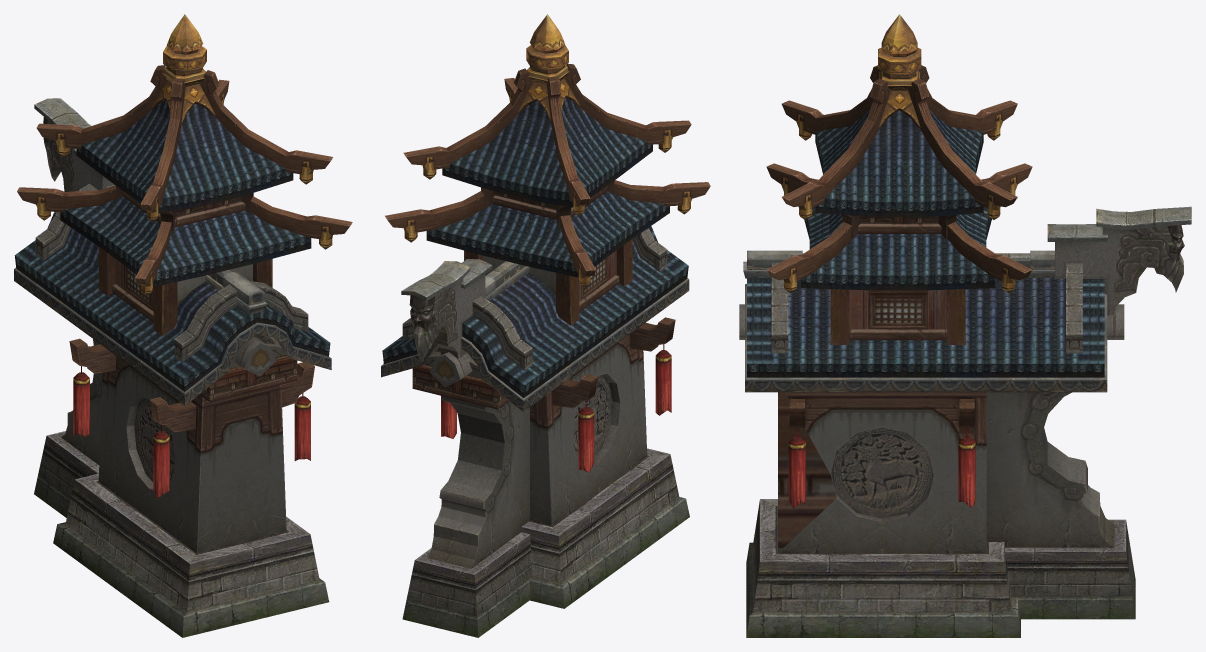
File: jz_yuanmen01_53_32_6624out.fbx
3 views of the same model, side by side, from view 1: azimuth 30°, elevation 25°; view 2: azimuth 150°, elevation 25°; view 3: azimuth 270°, elevation 25° (orthographic). The views are drawn at different scales.
Visible parts, largest first — view 1: 0000_jz_yuanmen01, 0001_jz_yuanmen01; view 2: 0000_jz_yuanmen01, 0001_jz_yuanmen01; view 3: 0000_jz_yuanmen01, 0001_jz_yuanmen01.
Part boxes in pixels (left/top/right/bottom): 0000_jz_yuanmen01: left=17, top=14, right=352, bottom=637; 0001_jz_yuanmen01: left=14, top=98, right=331, bottom=405; 0000_jz_yuanmen01: left=385, top=14, right=710, bottom=637; 0001_jz_yuanmen01: left=381, top=98, right=689, bottom=411; 0000_jz_yuanmen01: left=739, top=14, right=1184, bottom=637; 0001_jz_yuanmen01: left=743, top=109, right=1191, bottom=392.
Size of the model in its own units: 5.18 by 12.56 by 8.77.
